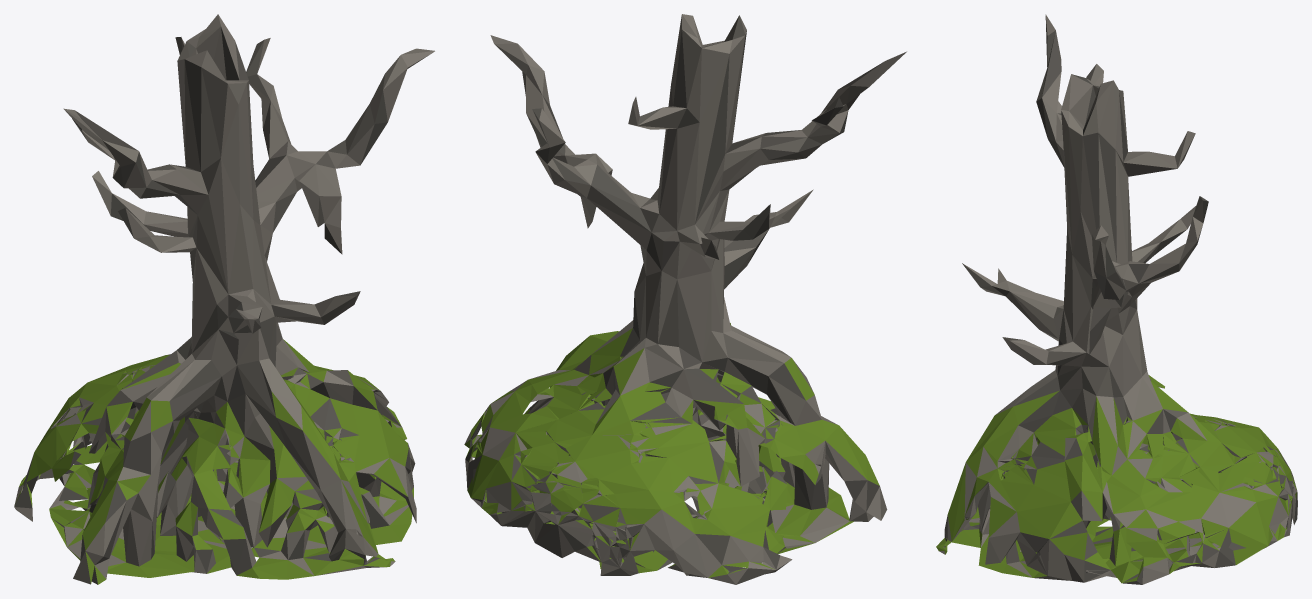
The model's file is swamp_trees.glb.
3 views of the same model, side by side, from view 1: azimuth 30°, elevation 25°; view 2: azimuth 150°, elevation 25°; view 3: azimuth 270°, elevation 25° (orthographic). The views are drawn at different scales.
Visible parts, largest first — view 1: DeadRoot; view 2: DeadRoot; view 3: DeadRoot.
Part boxes in pixels (bbox=[...]): DeadRoot: bbox=[14, 14, 434, 584]; DeadRoot: bbox=[464, 14, 906, 584]; DeadRoot: bbox=[936, 14, 1297, 584].
Size of the model in its own units: 10.75 by 13 by 9.53.
